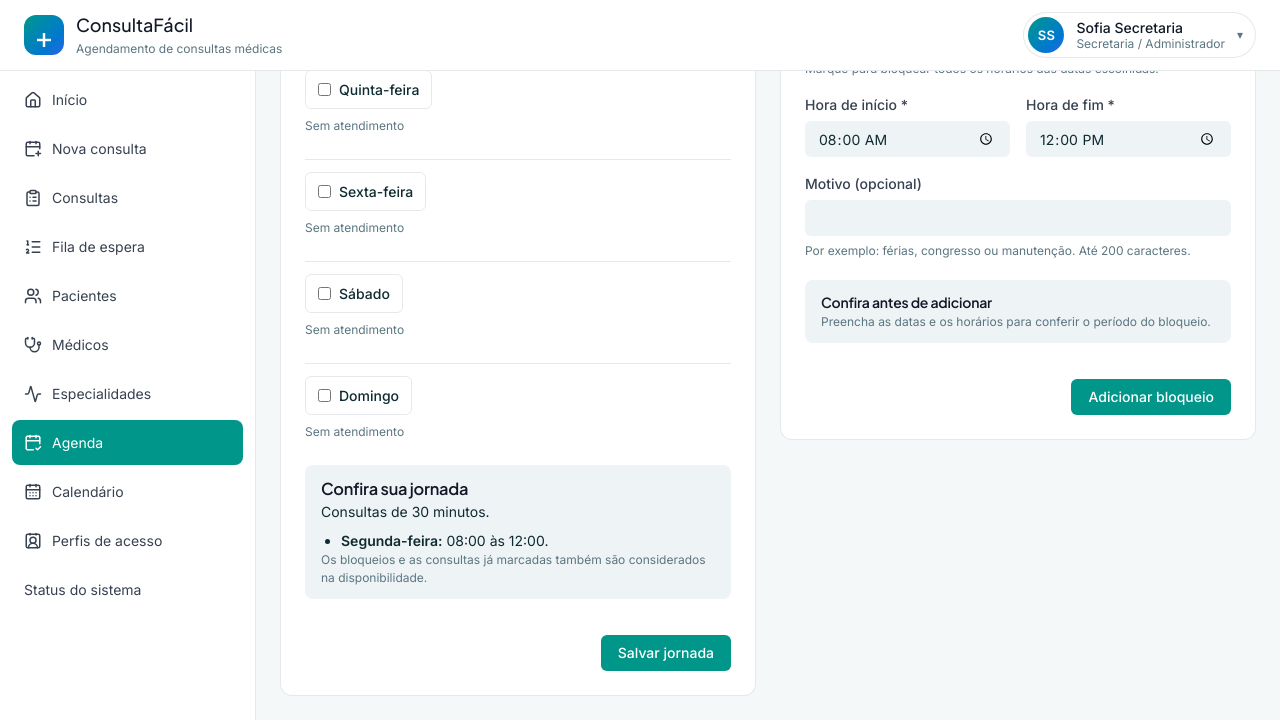
Scenario: nova jornada que deixa consultas de fora › mostra as consultas e salva com confirmação
(page scrolled)
Click the button "Salvar jornada".
click(666, 653)  # box [601,635,731,671]
(page scrolled)
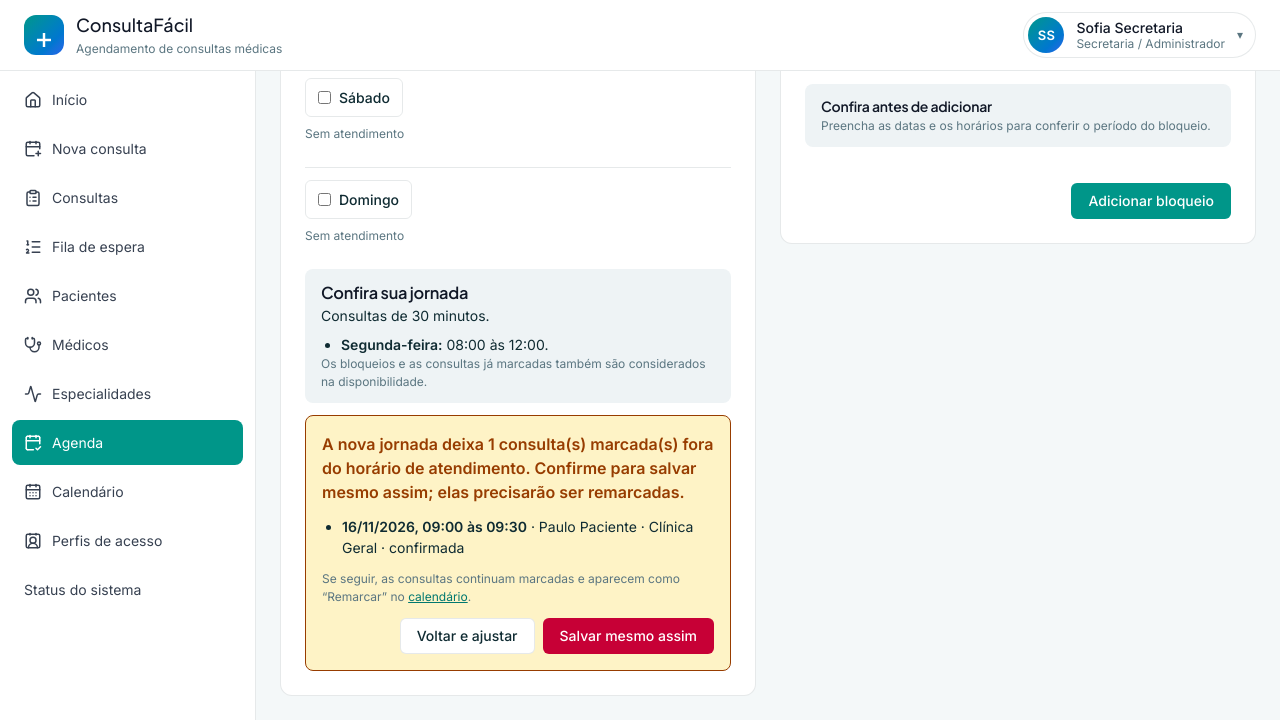
Check: the text "A nova jornada deixa 1 consulta" shows "Paulo Paciente", box [539,518,637,535]
Click the button "Salvar mesmo assim".
click(628, 636)  # box [542,618,714,654]
(page scrolled)
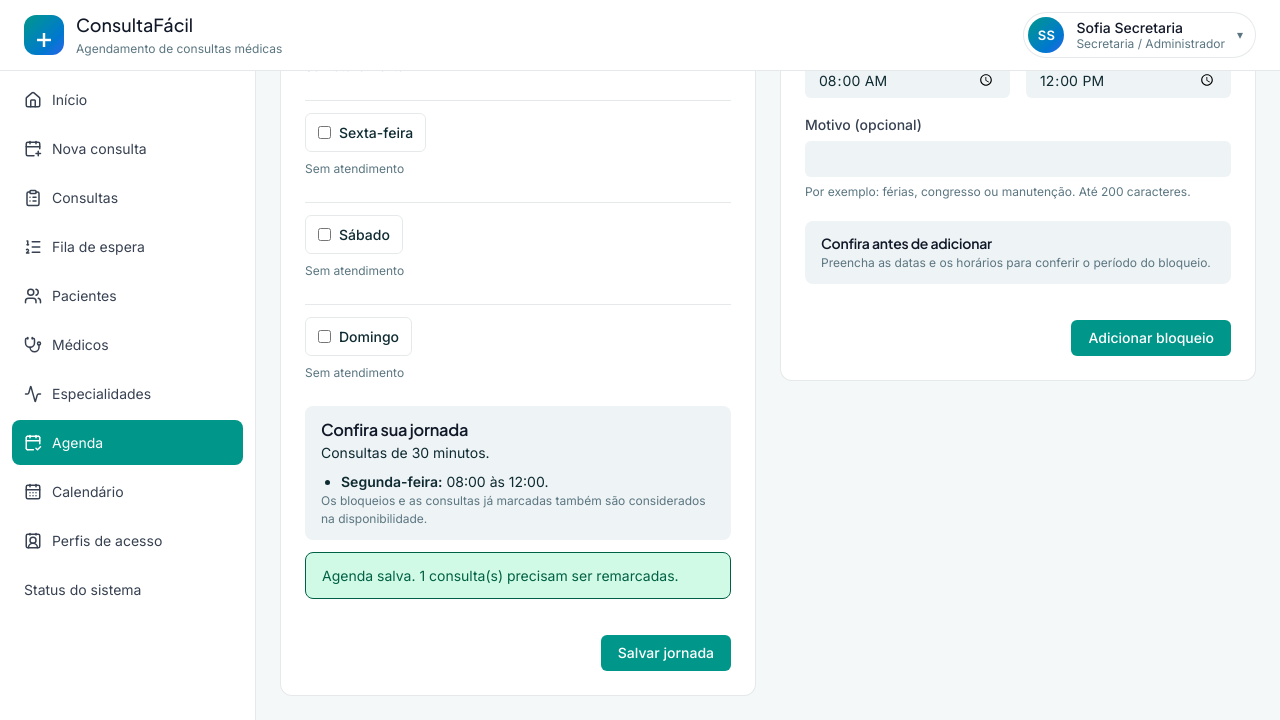
Check: the text "Agenda salva. 1 consulta(s) precisam ser remarcadas." is shown, box [322,565,679,586]
